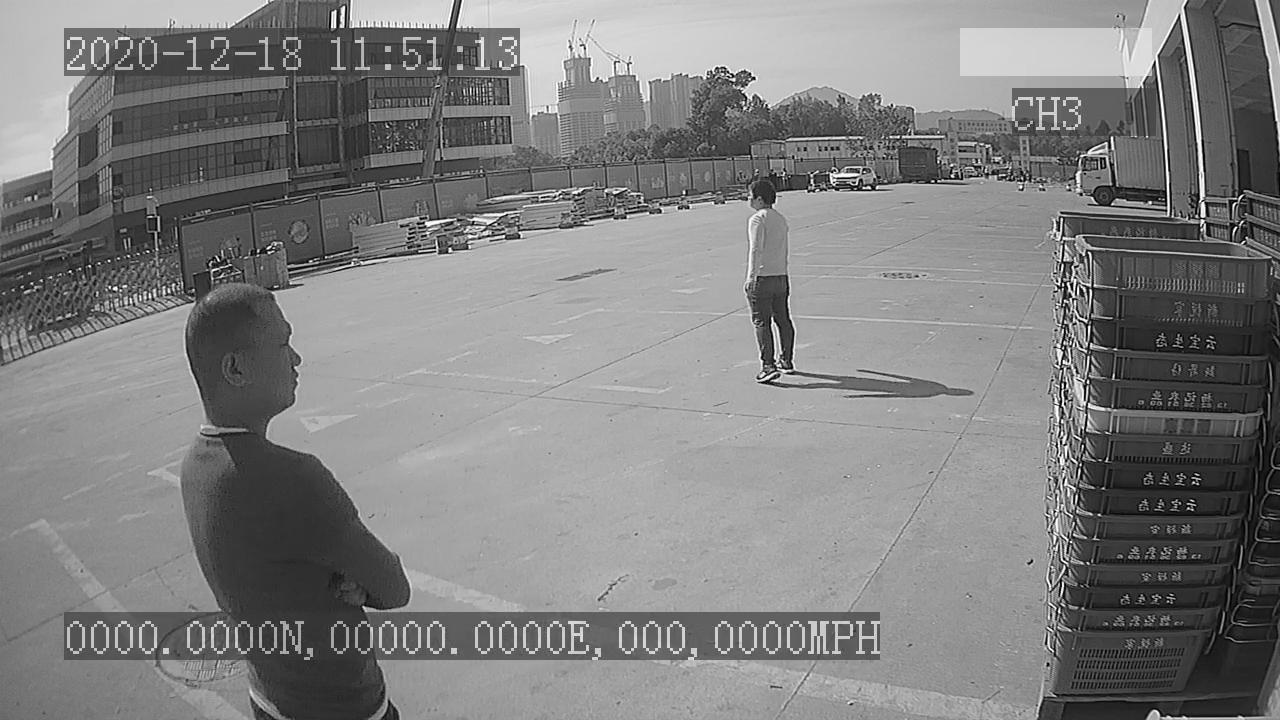person: (734, 172, 802, 386)
